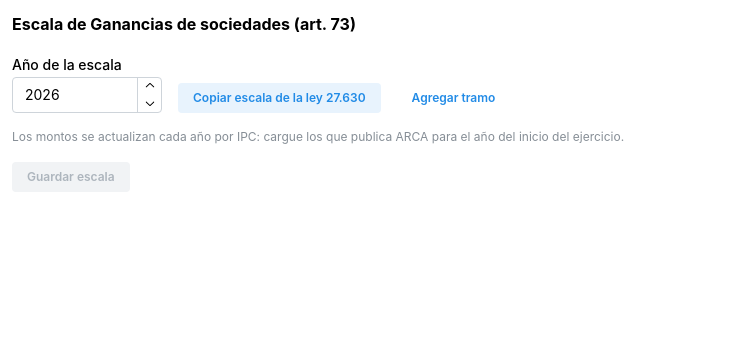
Scenario: DJ de Ganancias de sociedades (web, E46) › revisión: escala con un campo vacío no se guarda
The image size is (749, 357).
Click the button "Agregar tramo" at (453, 98), box [397,83,510,113]
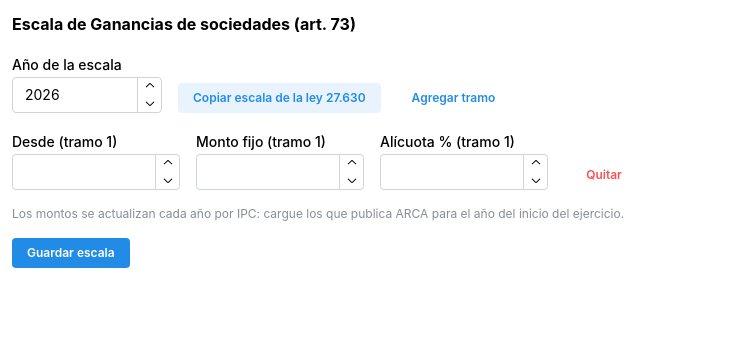
Click the button "Guardar escala" at (71, 253), box [12,238,130,268]
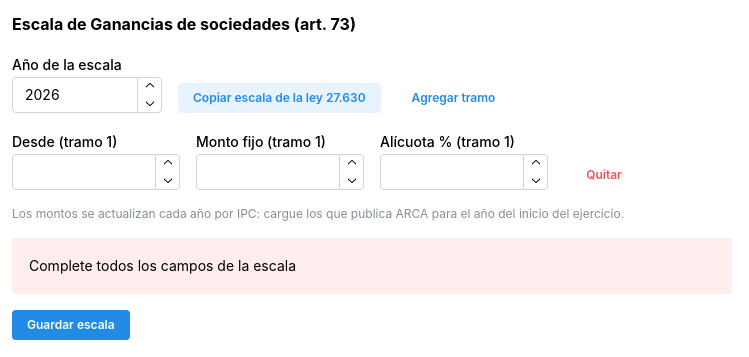
Result: the text "Complete todos los campos de la escala" is shown at [29,257,296,274]
